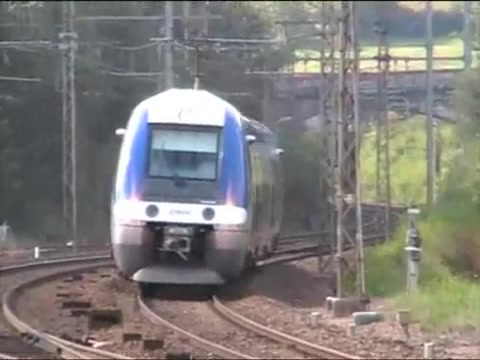train: (108, 86, 289, 294)
